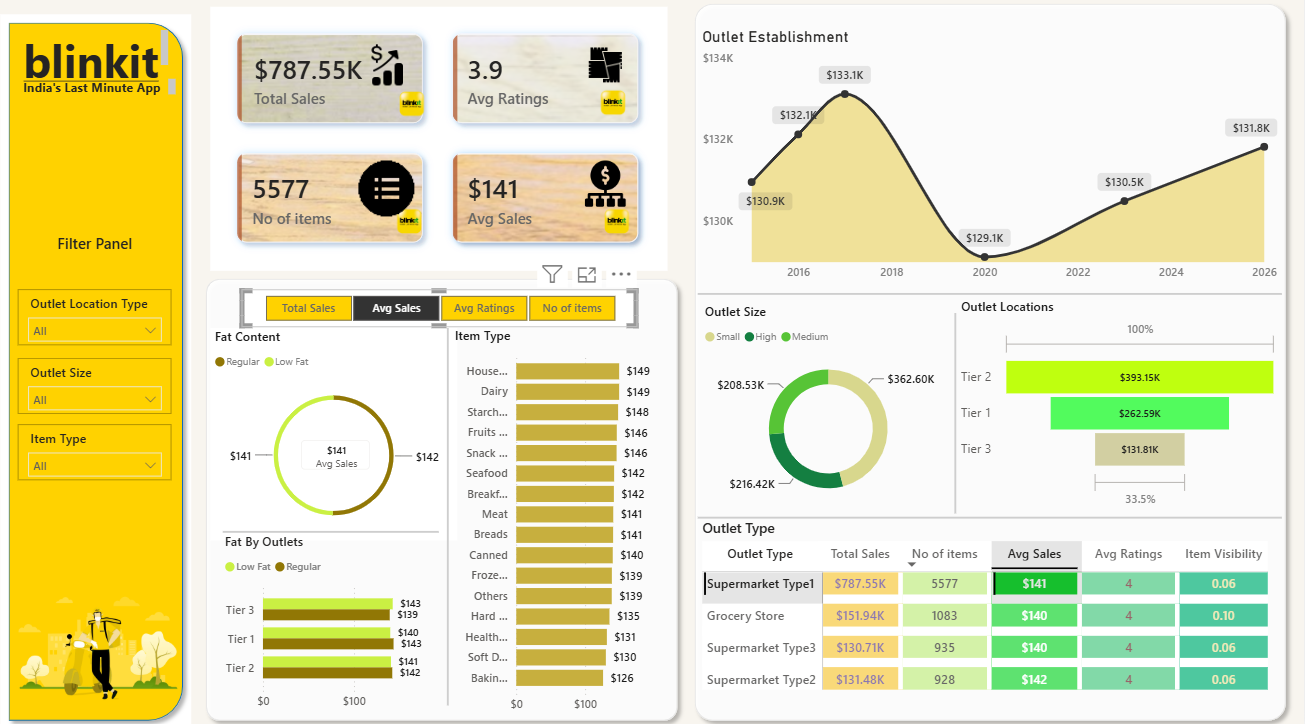

Layout of this report page (visuals, bound fields, positions):
{"tool":"powerbi","page":{"name":"Page 1","canvas":[1400,800],"ordinal":0},"visuals":[{"type":"shape","box":[1.7,33.3,205,766.7],"z":0},{"type":"textbox","box":[21.7,45,165,65],"z":1000},{"type":"textbox","box":[21.7,98.3,173.3,30],"z":2000},{"type":"group","id":"g1","title":"Group 1","box":[226.7,25,490,283.3],"z":3000},{"type":"cardVisual","fields":{"Data":["BlinkIT Grocery Data.Total Sales","BlinkIT Grocery Data.Avg Ratings","BlinkIT Grocery Data.No of items","BlinkIT Grocery Data.Avg Sales"]},"box":[226.7,25,490,283.3],"z":3000,"group":"g1"},{"type":"image","box":[615.4,64.5,69,48],"z":4000},{"type":"image","box":[387.7,65.8,57.9,46.2],"z":6000,"group":"g1"},{"type":"image","box":[624.4,190.6,51,49.5],"z":6000},{"type":"image","box":[426.2,114.1,33,31.5],"z":7000},{"type":"image","box":[423.2,240.1,33,31.5],"z":8000},{"type":"image","box":[642.4,240.1,40.5,31.5],"z":9000},{"type":"image","box":[642.4,112.6,33,31.5],"z":10000},{"type":"shape","box":[213.3,308.3,523.3,491.7],"z":11000},{"type":"donutChart","title":" Fat Content","fields":{"Y":["BlinkIT Grocery Data.Total Sales"],"Category":["BlinkIT Grocery Data.Item Fat Content"]},"box":[226.7,370,265,228.3],"z":12000},{"type":"slicer","fields":{"Values":["Metrics.Metrics"]},"box":[259.6,328.7,424.7,40.5],"z":13000},{"type":"cardVisual","fields":{"Data":["BlinkIT Grocery Data.Total Sales"]},"box":[306.7,473.3,108.3,66.7],"z":14000},{"type":"clusteredBarChart","title":"Fat By Outlets","fields":{"Y":["BlinkIT Grocery Data.Total Sales"],"Category":["BlinkIT Grocery Data.Outlet Location Type"],"Series":["BlinkIT Grocery Data.Item Fat Content"]},"box":[236.7,590,235,198.3],"z":15000},{"type":"shape","box":[240,578.3,231.7,21.7],"z":16000},{"type":"shape","box":[463.3,370,35,405],"z":17000},{"type":"barChart","title":"Item Type","fields":{"Y":["BlinkIT Grocery Data.Total Sales"],"Category":["BlinkIT Grocery Data.Item Type"]},"box":[483.3,368.3,233.3,423.3],"z":18000},{"type":"shape","box":[736.7,13.3,651.7,786.7],"z":19000},{"type":"lineChart","title":"Outlet Establishment  ","fields":{"Y":["BlinkIT Grocery Data.Total Sales"],"Category":["BlinkIT Grocery Data.Outlet Establishment Year"]},"box":[750,46.7,626.7,281.7],"z":20000},{"type":"shape","box":[750,568.3,626.7,10],"z":21000},{"type":"donutChart","title":"Outlet Size","fields":{"Y":["BlinkIT Grocery Data.Total Sales"],"Category":["BlinkIT Grocery Data.Outlet Size"]},"box":[751.7,343.3,275,225],"z":22000},{"type":"shape","box":[1008.3,353.3,35,215],"z":23000},{"type":"funnel","title":"Outlet Locations","fields":{"Y":["BlinkIT Grocery Data.Total Sales"],"Category":["BlinkIT Grocery Data.Outlet Location Type"]},"box":[1026.7,338.3,350,230],"z":24000},{"type":"shape","box":[750,328.3,626.7,10],"z":25000},{"type":"pivotTable","title":"Outlet Type","fields":{"Rows":["BlinkIT Grocery Data.Outlet Type"],"Values":["BlinkIT Grocery Data.Total Sales","BlinkIT Grocery Data.No of items","BlinkIT Grocery Data.Avg Sales","BlinkIT Grocery Data.Avg Ratings","Avg(BlinkIT Grocery Data.Item Visibility)"]},"box":[750,573.3,626.7,208.3],"z":26000},{"type":"slicer","fields":{"Values":["BlinkIT Grocery Data.Outlet Location Type"]},"box":[20,328.3,165,60],"z":27000},{"type":"slicer","fields":{"Values":["BlinkIT Grocery Data.Outlet Size"]},"box":[20,401.7,165,60],"z":28000},{"type":"slicer","fields":{"Values":["BlinkIT Grocery Data.Item Type"]},"box":[20,473.3,165,60],"z":29000},{"type":"textbox","box":[20,263.3,165,45],"z":30000},{"type":"image","box":[265,190,300,60],"z":31000},{"type":"image","box":[20,646.7,175,135],"z":32001}]}

Visuals, with their boxes in screenshot pixels (x1, y1, x2, y2), scaled from the page's 1400x800 canvas onto the 1305x724 screenshot:
shape: detection(2, 30, 193, 723)
textbox: detection(20, 41, 174, 100)
textbox: detection(20, 89, 182, 116)
"Group 1" group: detection(211, 23, 668, 279)
cardVisual - BlinkIT Grocery Data.Total Sales x BlinkIT Grocery Data.Avg Ratings: detection(211, 23, 668, 279)
image: detection(574, 58, 638, 102)
image: detection(361, 60, 415, 101)
image: detection(582, 172, 630, 217)
image: detection(397, 103, 428, 132)
image: detection(394, 217, 425, 246)
image: detection(599, 217, 637, 246)
image: detection(599, 102, 630, 130)
shape: detection(199, 279, 687, 723)
" Fat Content" donutChart: detection(211, 335, 458, 541)
slicer - Metrics.Metrics: detection(242, 297, 638, 334)
cardVisual - BlinkIT Grocery Data.Total Sales: detection(286, 428, 387, 489)
"Fat By Outlets" clusteredBarChart: detection(221, 534, 440, 713)
shape: detection(224, 523, 440, 543)
shape: detection(432, 335, 464, 701)
"Item Type" barChart: detection(451, 333, 668, 716)
shape: detection(687, 12, 1294, 723)
"Outlet Establishment  " lineChart: detection(699, 42, 1283, 297)
shape: detection(699, 514, 1283, 523)
"Outlet Size" donutChart: detection(701, 311, 957, 514)
shape: detection(940, 320, 973, 514)
"Outlet Locations" funnel: detection(957, 306, 1283, 514)
shape: detection(699, 297, 1283, 306)
"Outlet Type" pivotTable: detection(699, 519, 1283, 707)
slicer - BlinkIT Grocery Data.Outlet Location Type: detection(19, 297, 172, 351)
slicer - BlinkIT Grocery Data.Outlet Size: detection(19, 364, 172, 418)
slicer - BlinkIT Grocery Data.Item Type: detection(19, 428, 172, 483)
textbox: detection(19, 238, 172, 279)
image: detection(247, 172, 527, 226)
image: detection(19, 585, 182, 707)
